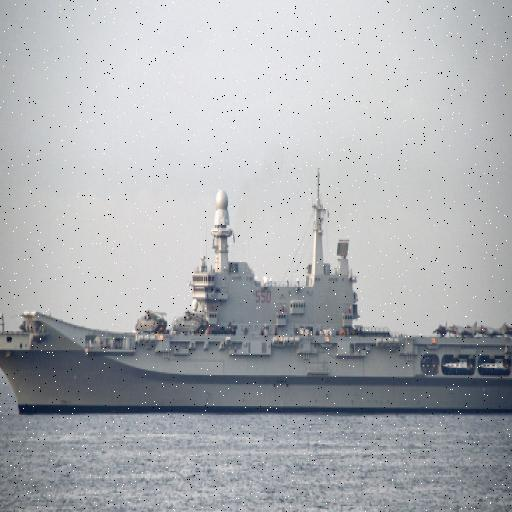Portanaves: (1, 161, 512, 422)
